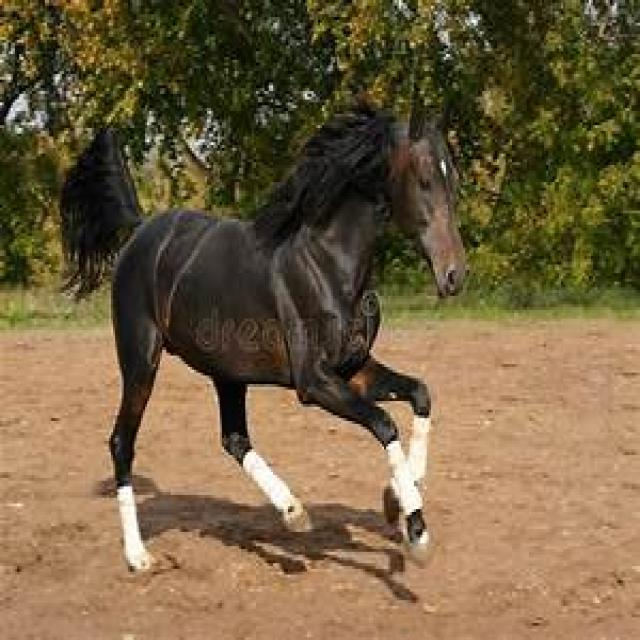horse: (107, 108, 469, 575)
